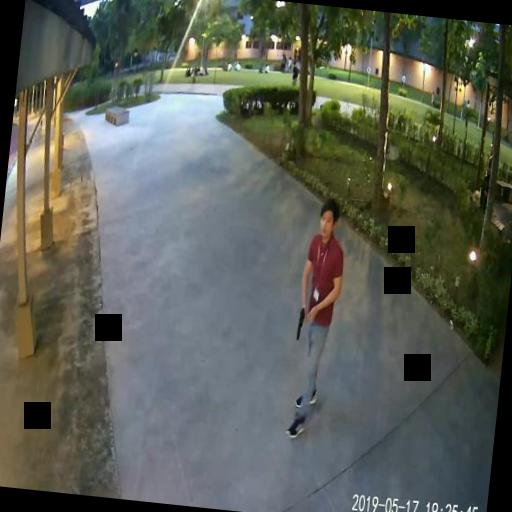Handgun: (294, 302, 306, 340)
